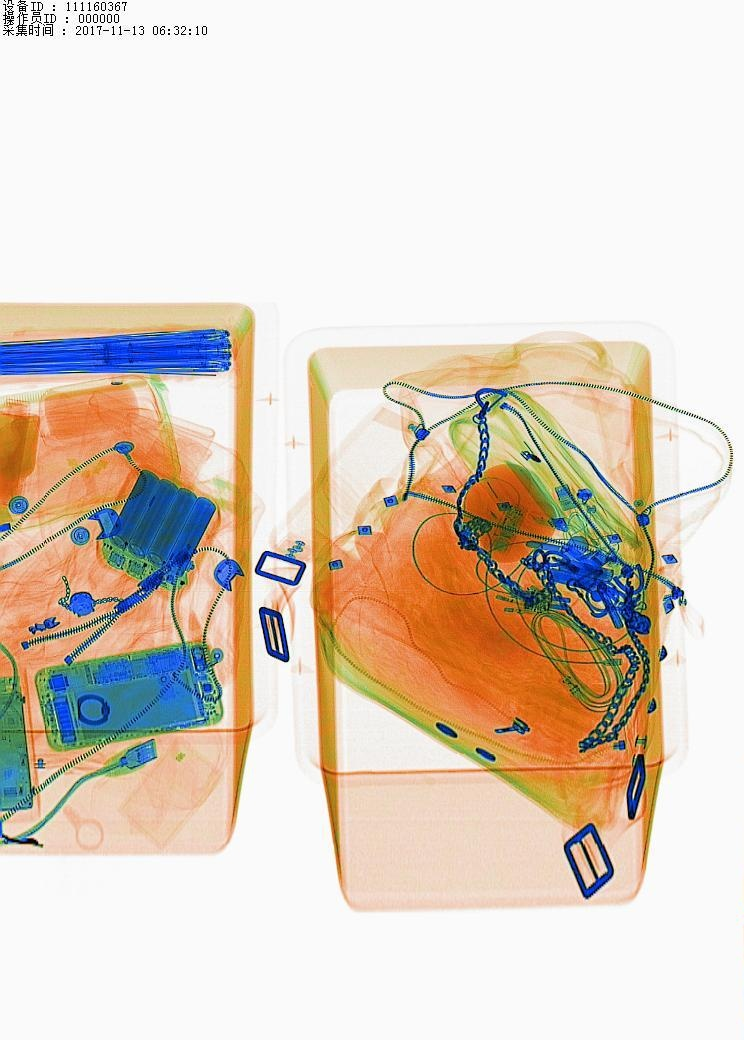core: (124, 469, 204, 576)
